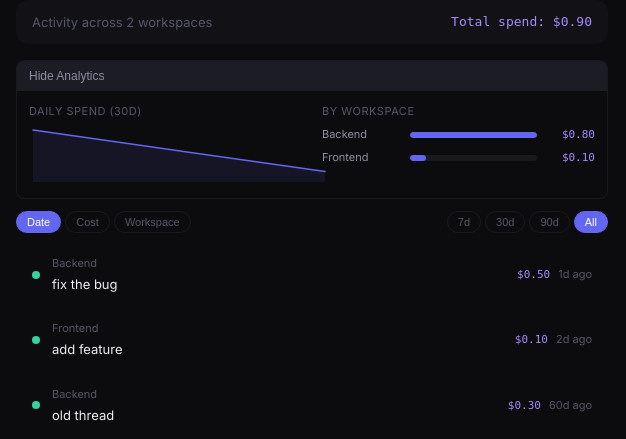
Test: FeedView › date range filter All shows everything
This screenshot has width=626, height=439.
Expected: the text "fix the bug" is shown, [52, 276, 118, 292]
First filter to 7d
Click the button "7d".
click(464, 222)  # box [447, 211, 481, 233]
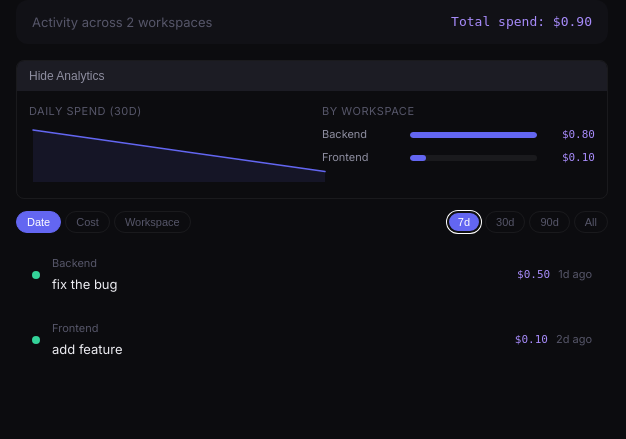
Expected: the text "old thread" is gone
Then select All
Click the button "All".
click(591, 222)  # box [574, 211, 608, 233]
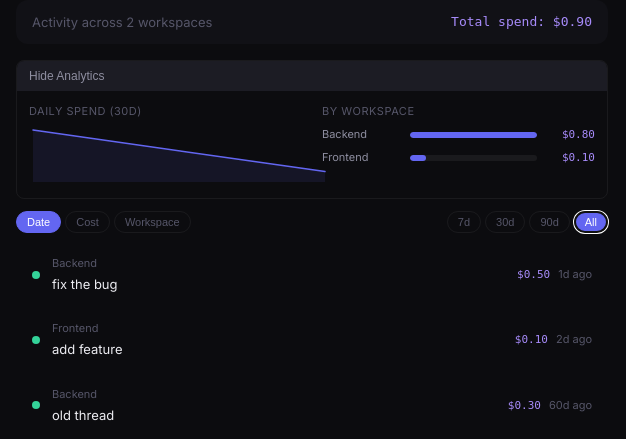
Expected: the text "old thread" is shown, [52, 407, 114, 423]
